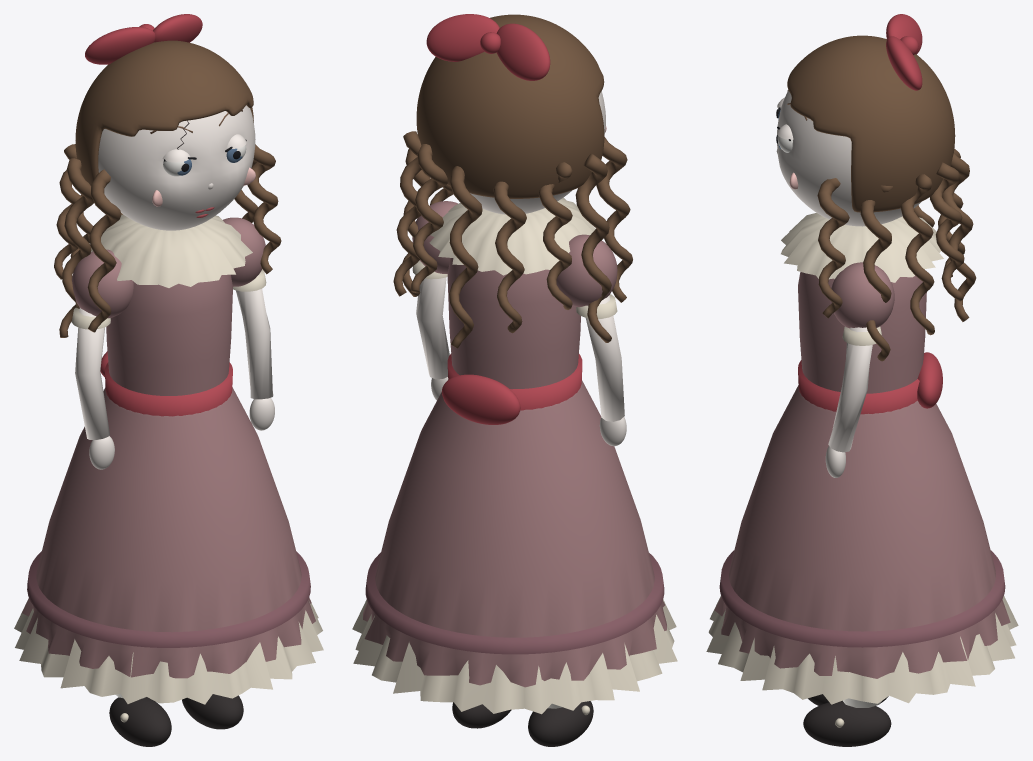
The model's file is doll.glb.
The picture shows the model from 3 angles, left to right: view 1: azimuth 30°, elevation 25°; view 2: azimuth 150°, elevation 25°; view 3: azimuth 270°, elevation 25°; orthographic projection. The views are drawn at different scales.
Parts seen in each view (by area): view 1: doll; view 2: doll; view 3: doll.
Part boxes in pixels (<box>): doll: <box>14,14,323,746</box>; doll: <box>352,14,677,746</box>; doll: <box>706,14,1018,746</box>.
Size of the model in its own units: 0.1643 by 0.4046 by 0.1643.
